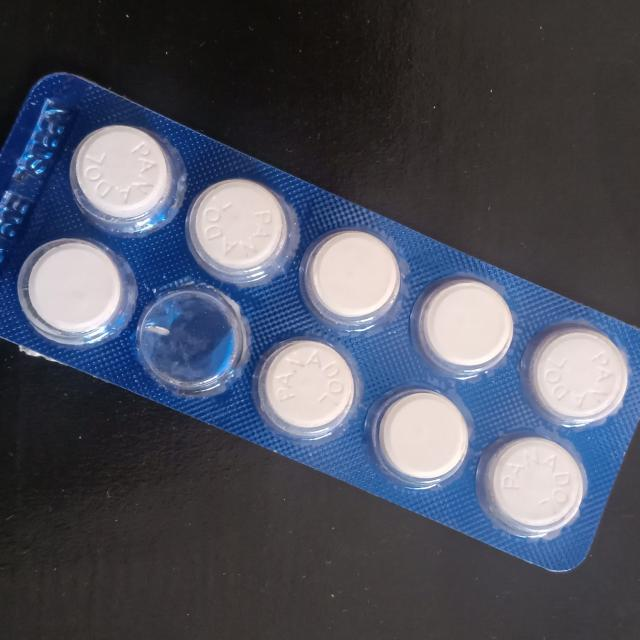defect: (133, 283, 249, 399)
